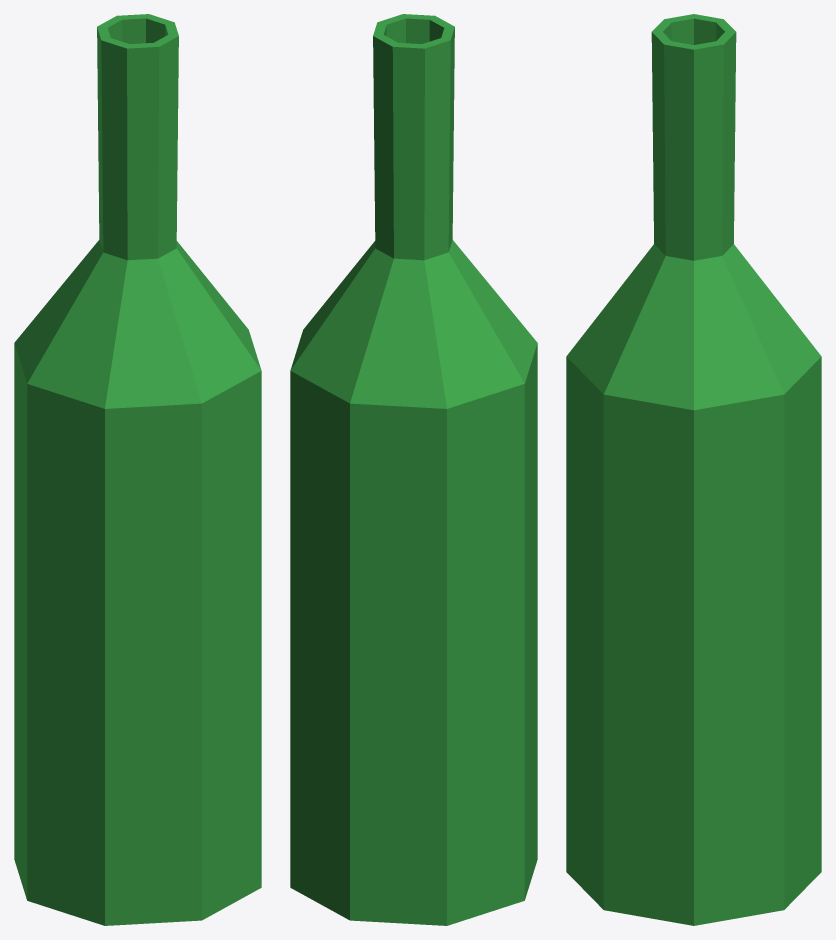
File: Botol Kaca.fbx
The picture shows the model from 3 angles, left to right: view 1: azimuth 30°, elevation 25°; view 2: azimuth 150°, elevation 25°; view 3: azimuth 270°, elevation 25°; orthographic projection.
Parts seen in each view (by area): view 1: Botol Kaca; view 2: Botol Kaca; view 3: Botol Kaca.
Boxes of the visible parts, x1,y1,x2,y2 form: Botol Kaca: [14, 14, 261, 925]; Botol Kaca: [290, 14, 537, 925]; Botol Kaca: [566, 14, 821, 925].
Bounding box in the file's own units: 90.24 × 328 × 90.24.
